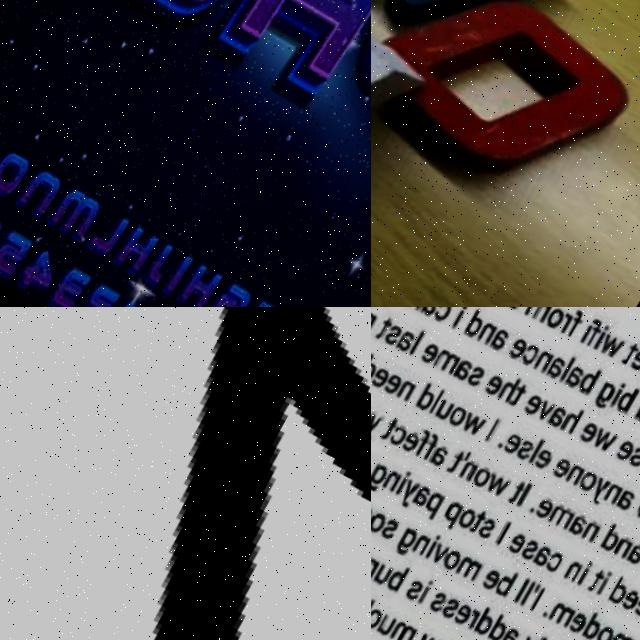1: (0, 307, 371, 640), (105, 293, 150, 307)
2: (77, 275, 133, 307)
3: (49, 263, 99, 307)
4: (12, 236, 77, 307)
5: (0, 221, 42, 288)
6: (0, 207, 9, 267)
A: (564, 370, 588, 397), (395, 332, 419, 358), (413, 487, 437, 513), (430, 448, 453, 475), (617, 493, 640, 519), (547, 362, 570, 387), (490, 333, 513, 358), (454, 363, 477, 388), (549, 411, 571, 436), (535, 549, 557, 574), (571, 519, 592, 543), (627, 548, 640, 574), (420, 307, 442, 322), (502, 631, 525, 640), (635, 406, 640, 431)
B: (387, 566, 414, 598), (614, 389, 640, 422), (578, 370, 604, 402), (496, 573, 522, 605), (505, 307, 530, 316)
C: (546, 555, 570, 581), (521, 348, 544, 373), (389, 427, 412, 452), (431, 307, 455, 328), (371, 609, 388, 635)
D: (602, 528, 630, 562), (610, 582, 637, 615), (464, 312, 491, 344), (476, 610, 503, 640), (416, 386, 441, 416), (490, 617, 516, 640), (584, 618, 610, 640), (371, 355, 384, 386)
E: (401, 432, 426, 460), (616, 445, 640, 471), (523, 398, 547, 424), (485, 377, 509, 403), (553, 461, 577, 487), (535, 452, 559, 478), (504, 436, 528, 462), (384, 375, 408, 401), (536, 503, 560, 529), (508, 537, 532, 563), (482, 572, 506, 598), (455, 607, 479, 633), (508, 341, 531, 368), (580, 426, 603, 453), (371, 368, 393, 394), (571, 616, 594, 640), (420, 345, 442, 370), (622, 594, 640, 622), (630, 355, 640, 380), (634, 601, 640, 627)
F: (565, 314, 588, 345), (586, 326, 607, 354), (423, 437, 444, 465), (415, 432, 436, 460)
G: (594, 387, 621, 419), (397, 529, 423, 561), (371, 464, 392, 496)
H: (498, 379, 525, 411), (562, 410, 588, 442), (371, 595, 380, 627)
I: (594, 330, 613, 358), (581, 323, 600, 351), (396, 474, 415, 502), (426, 538, 445, 566), (451, 307, 469, 334), (612, 388, 630, 414), (519, 487, 537, 513), (486, 423, 504, 448), (498, 525, 516, 550), (580, 569, 598, 593), (533, 594, 548, 618), (600, 579, 615, 602), (422, 585, 436, 608)
L: (561, 362, 579, 388), (410, 333, 428, 359), (531, 443, 548, 469), (523, 588, 540, 613), (432, 392, 448, 418), (518, 585, 532, 608)
M: (371, 0, 611, 85), (458, 558, 488, 588), (433, 352, 463, 381), (549, 508, 579, 537), (552, 607, 581, 634), (525, 307, 553, 329), (393, 622, 423, 640)
N: (534, 353, 557, 380), (583, 525, 606, 550), (566, 468, 589, 493), (605, 487, 627, 512), (398, 382, 420, 407), (460, 463, 482, 488), (477, 326, 499, 350), (384, 473, 406, 497), (414, 538, 436, 562), (616, 542, 637, 567), (567, 566, 588, 590), (371, 313, 381, 339), (407, 307, 430, 314), (371, 555, 376, 579)
O: (371, 0, 640, 242), (545, 310, 569, 337), (449, 407, 473, 433), (473, 469, 497, 495), (459, 510, 483, 536), (444, 551, 468, 577), (580, 475, 603, 501), (371, 512, 392, 538), (598, 630, 620, 640), (371, 506, 378, 532)
P: (422, 494, 449, 526), (442, 503, 468, 535)
R: (558, 318, 576, 339), (468, 614, 485, 635), (371, 561, 384, 583)
S: (521, 542, 545, 569), (406, 582, 430, 608), (443, 600, 466, 627), (383, 325, 406, 351), (466, 369, 489, 394), (479, 521, 502, 546), (431, 595, 454, 620), (517, 443, 539, 468), (383, 520, 405, 545), (629, 452, 640, 476)
T: (510, 386, 533, 415), (449, 453, 470, 480), (472, 514, 492, 540), (590, 576, 610, 601), (383, 420, 402, 446), (511, 486, 530, 510), (623, 347, 640, 373), (377, 319, 395, 343)
U: (375, 566, 398, 591), (379, 616, 402, 640), (436, 402, 458, 426)
V: (535, 404, 558, 429), (431, 546, 454, 570)
W: (486, 475, 515, 504), (462, 413, 490, 442), (593, 433, 621, 461), (600, 340, 627, 367)
Y: (398, 481, 424, 512), (589, 483, 614, 514), (371, 413, 387, 445)
